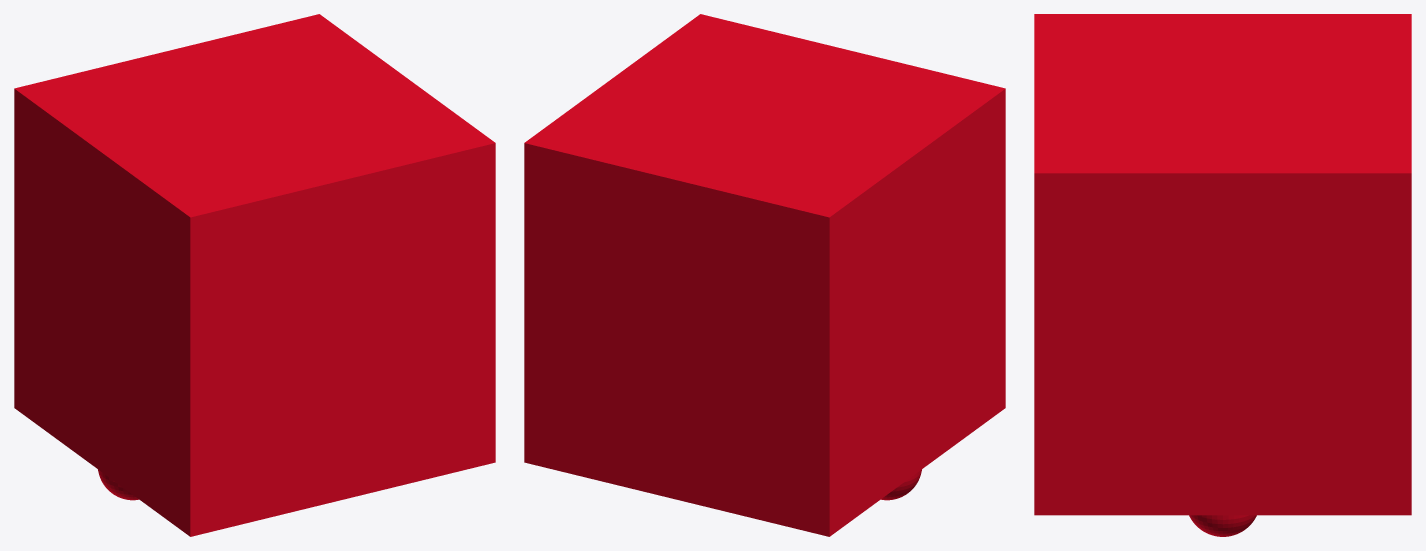
Rendered from base_link_robot_1.dae.
The picture shows the model from 3 angles, left to right: view 1: azimuth 30°, elevation 25°; view 2: azimuth 150°, elevation 25°; view 3: azimuth 270°, elevation 25°; orthographic projection. The views are drawn at different scales.
Visible parts, largest first — view 1: base_link v1; view 2: base_link v1; view 3: base_link v1.
Boxes of the visible parts, x1,y1,x2,y2 form: base_link v1: (14, 14, 495, 536); base_link v1: (524, 14, 1005, 536); base_link v1: (1034, 14, 1411, 536).
Bounding box in the file's own units: 0.1 × 0.1 × 0.11.
